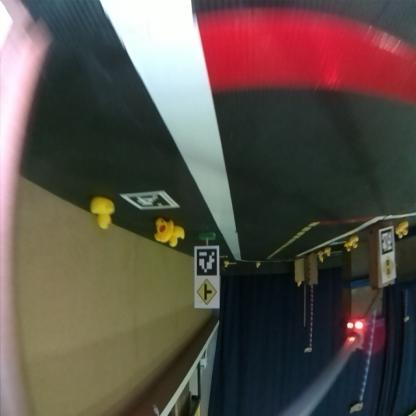Duckie: (91, 196, 115, 230), (155, 219, 175, 244), (170, 227, 186, 248), (400, 223, 410, 235), (350, 237, 360, 249), (396, 228, 404, 239), (344, 244, 352, 252), (318, 252, 324, 260), (326, 249, 332, 256), (256, 262, 261, 270), (225, 261, 230, 268), (298, 280, 302, 288)
Intersection sign: (196, 281, 218, 307)
QR code: (122, 192, 180, 210), (197, 249, 218, 277), (381, 230, 394, 256)
Signal sign: (382, 257, 396, 279)
